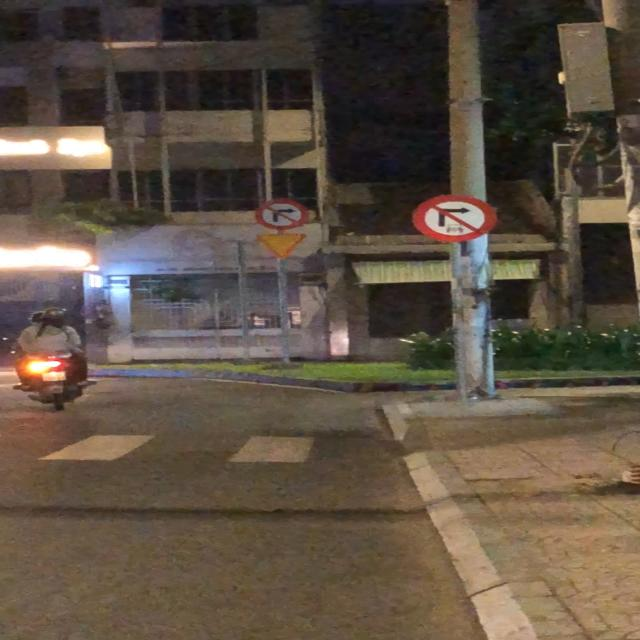Bien bao cam re phai: (254, 197, 310, 230)
Bien bao cam xe o to re phai: (409, 194, 500, 243)
Bien bao giao nhau voi duong uu tien: (251, 230, 314, 260)
